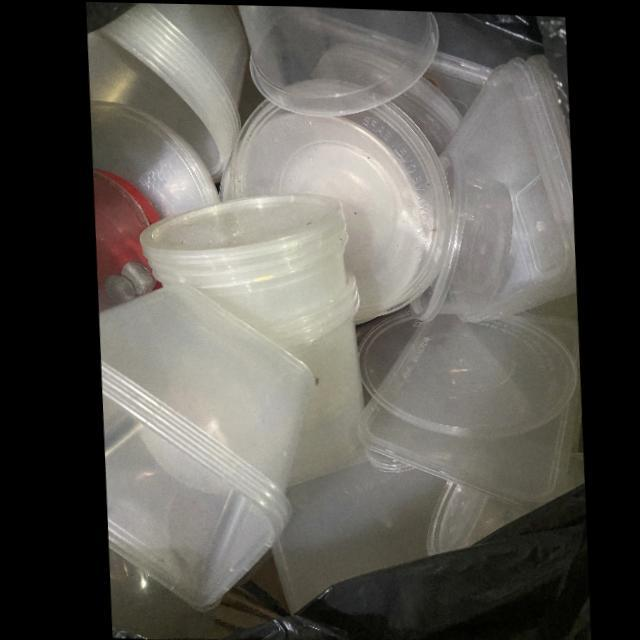plastic: (95, 284, 312, 612), (136, 193, 359, 485), (445, 52, 574, 320), (87, 2, 249, 184), (237, 4, 440, 115), (406, 147, 511, 321)
